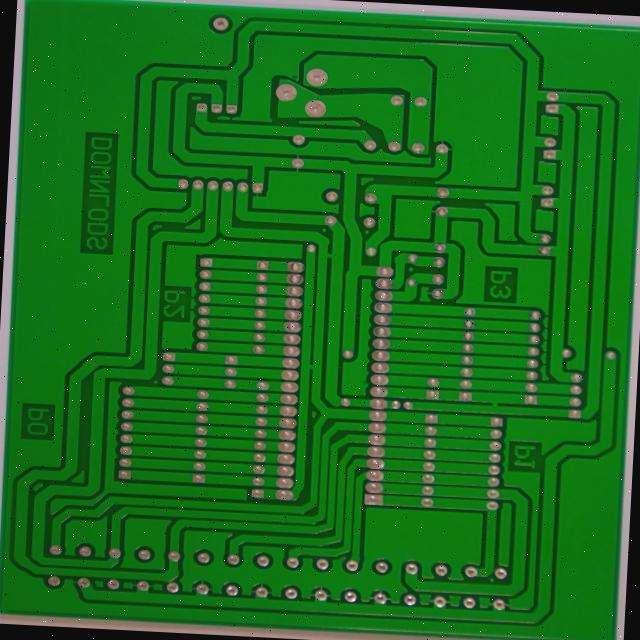short: (459, 371, 495, 400), (260, 332, 286, 354), (277, 212, 305, 232)
